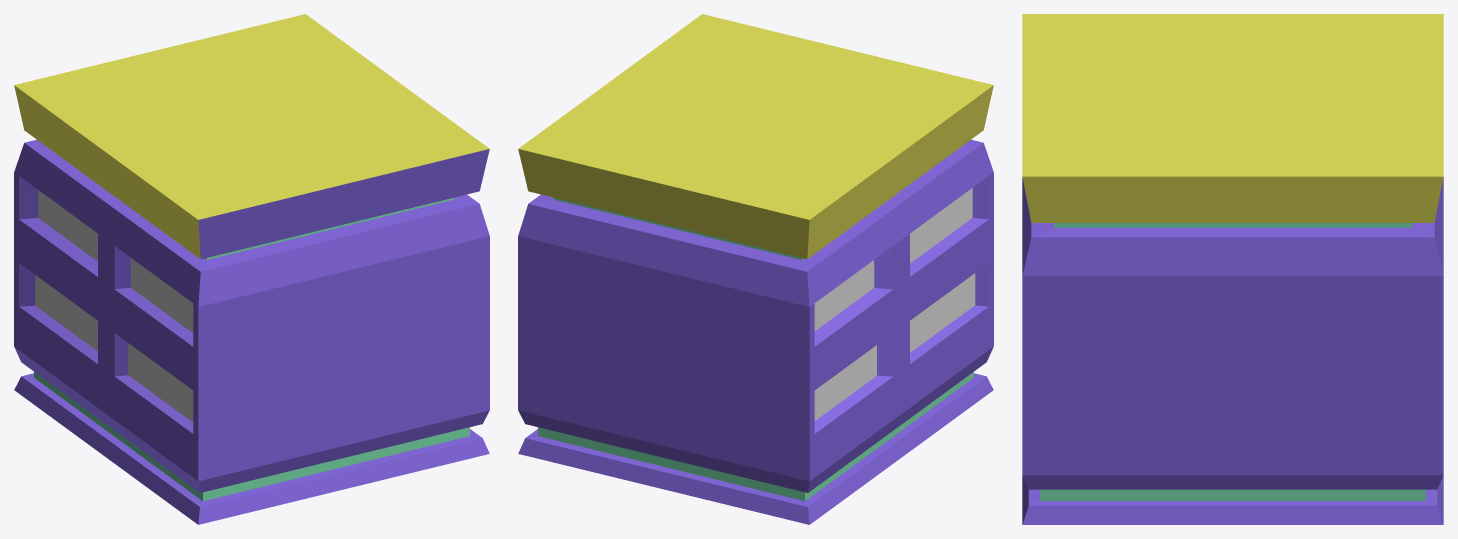
Rendered from FBX_LC_mHouse_11.fbx.
3 views of the same model, side by side, from view 1: azimuth 30°, elevation 25°; view 2: azimuth 150°, elevation 25°; view 3: azimuth 270°, elevation 25° (orthographic). The views are drawn at different scales.
Parts seen in each view (by area): view 1: FBX_LC_mHouse_11; view 2: FBX_LC_mHouse_11; view 3: FBX_LC_mHouse_11.
Part boxes in pixels (x1,y1,x2,y2): FBX_LC_mHouse_11: (14, 14, 489, 524); FBX_LC_mHouse_11: (518, 14, 993, 524); FBX_LC_mHouse_11: (1022, 14, 1443, 524).
Size of the model in its own units: 837 by 837 by 917.
